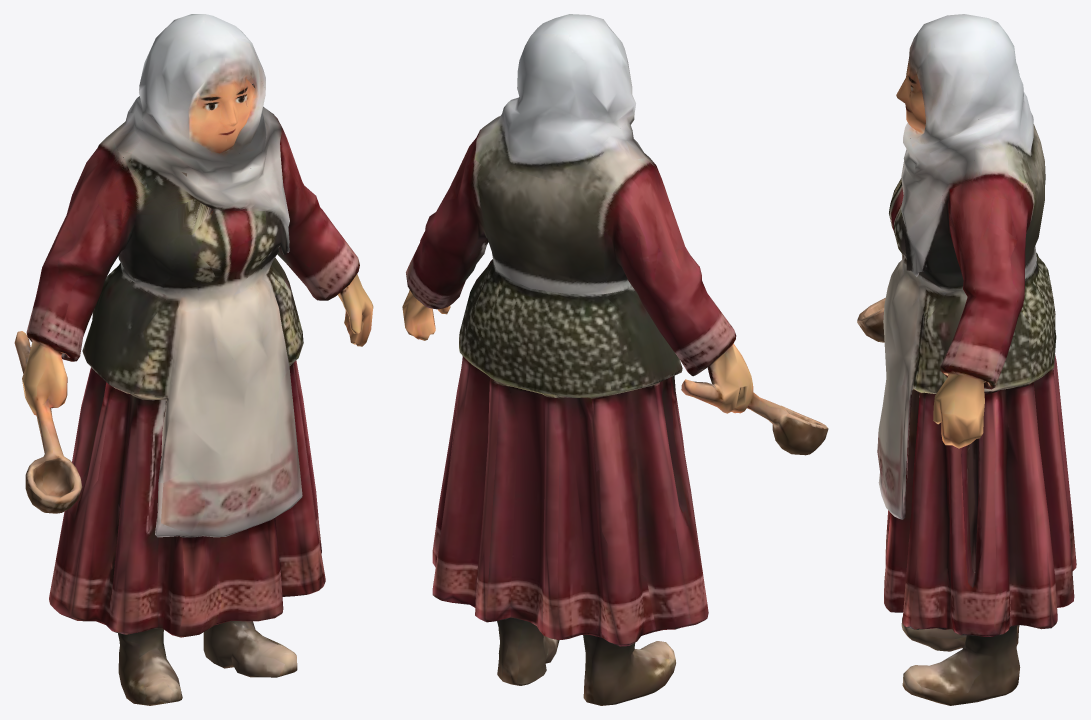
Rendered from cook.gen.glb.
3 views of the same model, side by side, from view 1: azimuth 30°, elevation 25°; view 2: azimuth 150°, elevation 25°; view 3: azimuth 270°, elevation 25° (orthographic).
Parts seen in each view (by area): view 1: cook.raw; view 2: cook.raw; view 3: cook.raw.
Boxes of the visible parts, x1=… form: cook.raw: x1=14, y1=14, x2=373, y2=705; cook.raw: x1=402, y1=14, x2=828, y2=705; cook.raw: x1=857, y1=14, x2=1076, y2=705.
Bounding box in the file's own units: 1.06 × 1.75 × 0.5322.
Materials: 1 (1 with a texture image).
